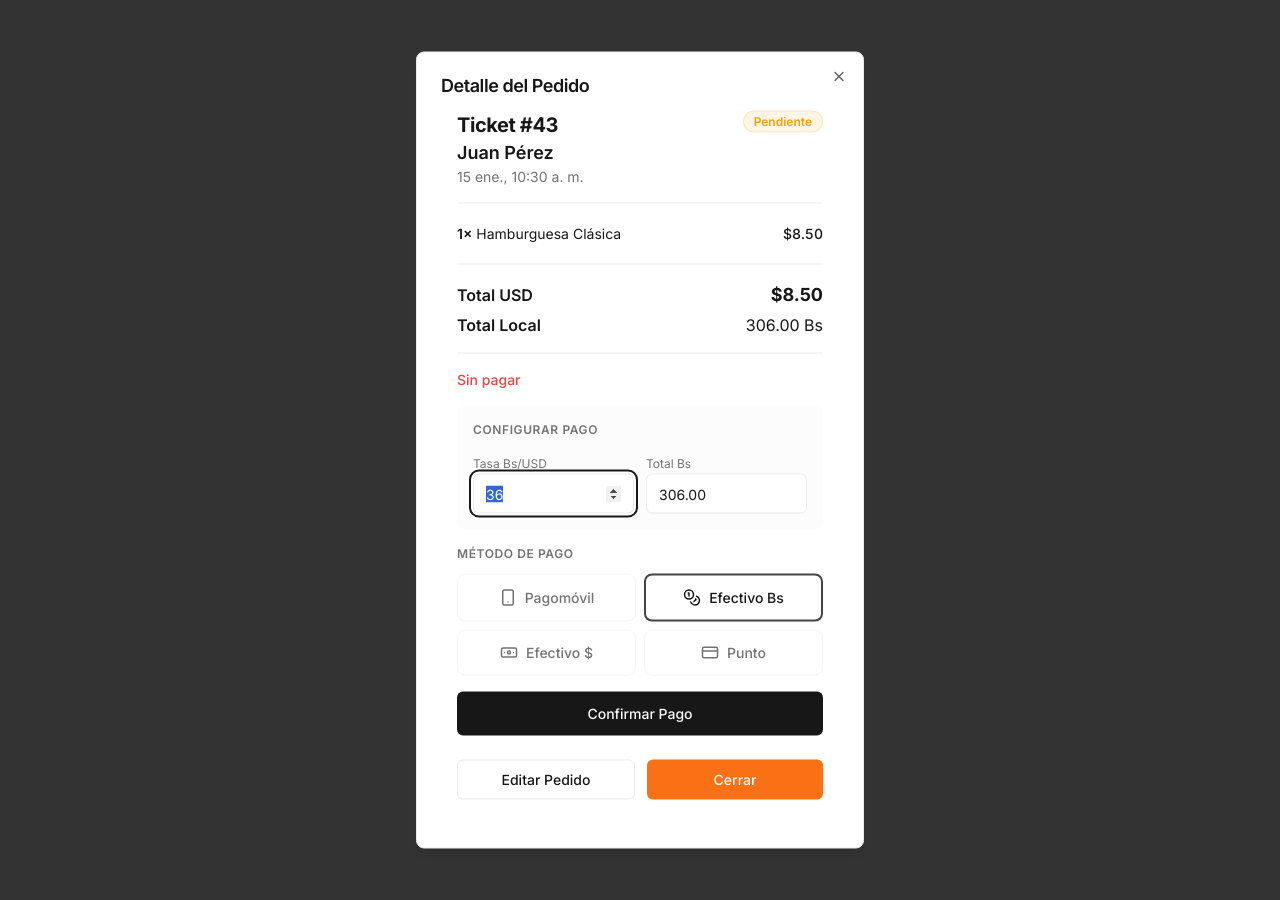
Scenario: OrderDetailModal › shows reference input when pagomovil is selected
Click the button "Pagomóvil".
click(546, 598)  # box [457,574,636,622]
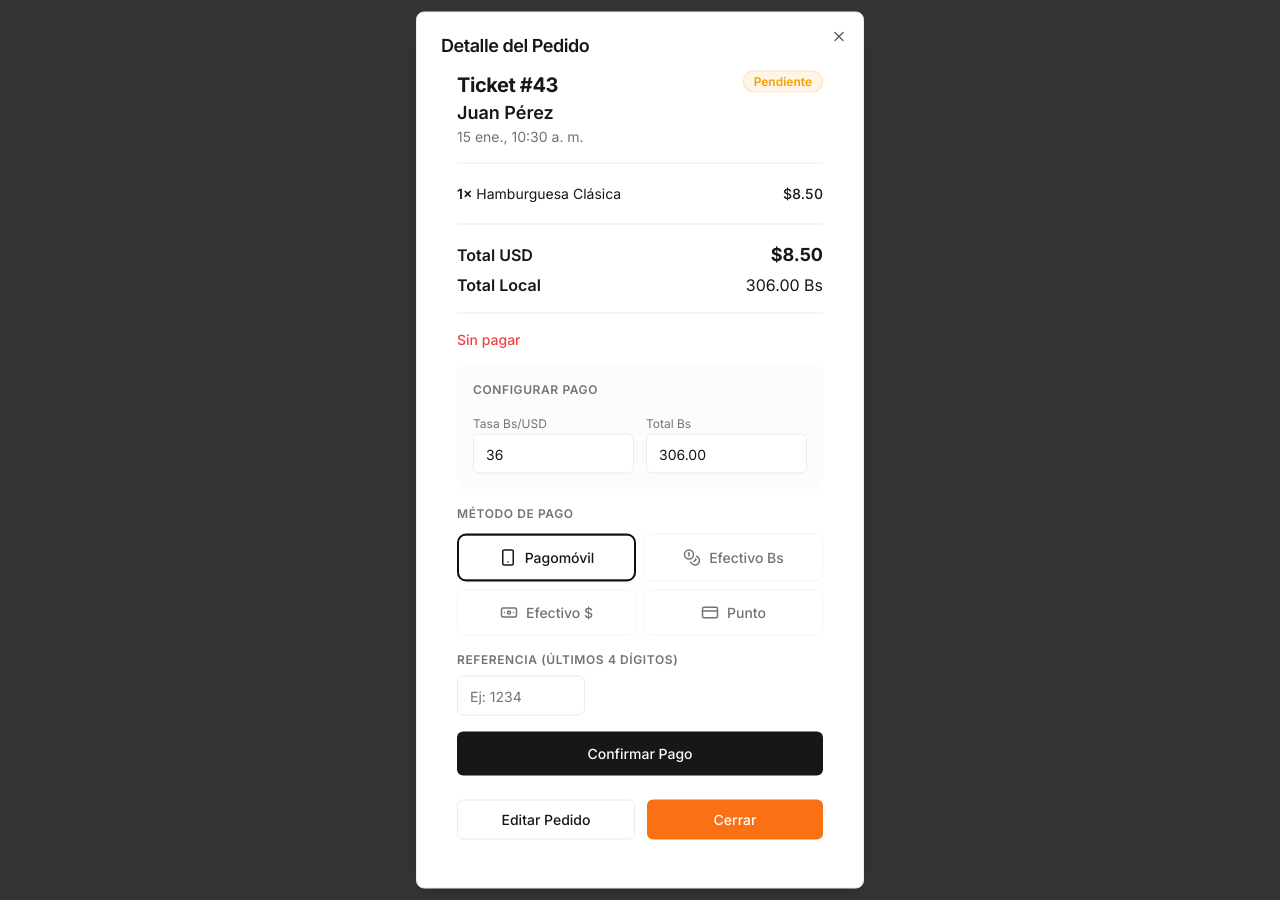
Expected: the field with placeholder "Ej: 1234" is shown, [457,676,585,716]
